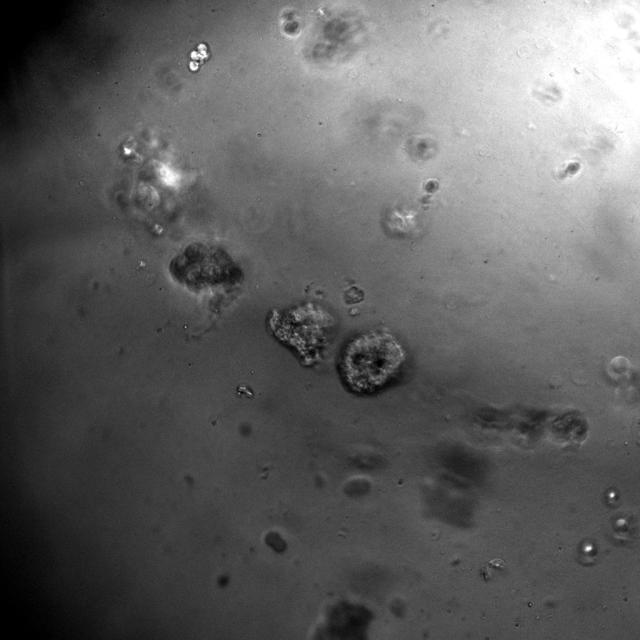organoid: (111, 129, 194, 235), (473, 405, 589, 447), (268, 302, 334, 366), (338, 330, 404, 394), (169, 242, 243, 289), (278, 7, 302, 38), (188, 42, 211, 73), (342, 284, 364, 305)
